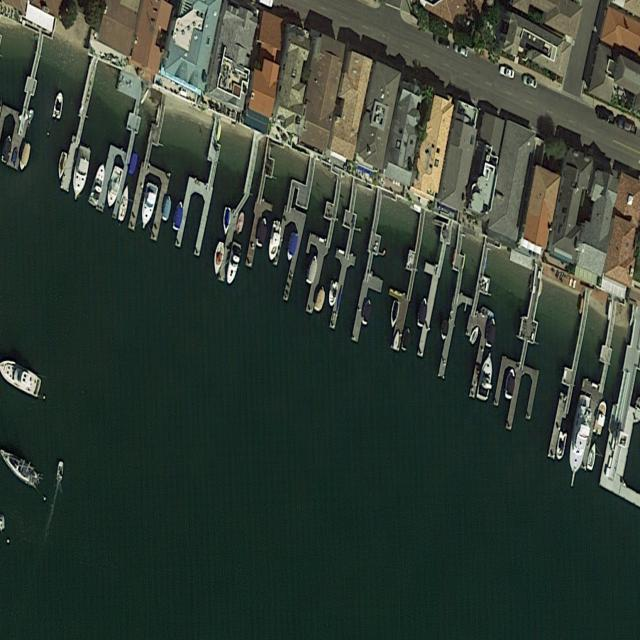ship: (561, 393, 595, 493), (1, 439, 44, 495), (69, 144, 92, 203), (139, 181, 158, 233), (477, 351, 496, 402), (88, 161, 107, 208), (105, 164, 124, 209), (225, 241, 242, 287), (267, 222, 282, 264), (593, 398, 608, 437), (118, 183, 132, 223), (212, 240, 226, 276), (18, 142, 32, 174), (256, 217, 269, 249), (586, 441, 599, 473), (305, 254, 318, 286), (0, 134, 13, 164), (173, 199, 185, 231), (555, 430, 567, 462), (286, 231, 298, 263), (220, 206, 232, 237), (57, 151, 69, 181), (389, 300, 401, 330), (505, 368, 516, 400), (161, 194, 173, 223), (52, 92, 64, 121), (417, 297, 428, 328), (486, 318, 497, 348), (400, 326, 412, 353), (361, 298, 372, 327), (328, 280, 339, 308), (469, 323, 481, 347), (127, 152, 139, 175), (480, 306, 494, 321), (55, 460, 64, 483), (440, 320, 449, 342), (393, 330, 401, 352), (11, 147, 19, 163)
small-vehicle: (596, 107, 616, 127), (618, 118, 638, 136), (435, 34, 451, 50), (453, 43, 469, 59), (499, 65, 515, 80), (523, 75, 538, 90)
